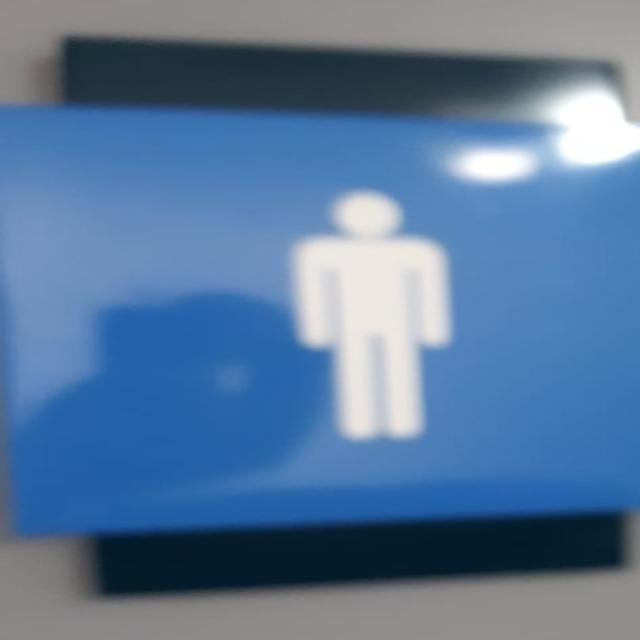wc nam: (0, 107, 639, 532)
